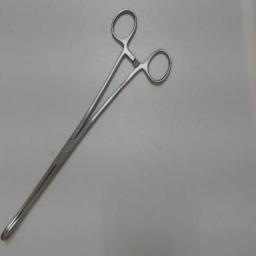Sponge Forceps: (0, 3, 178, 245)
